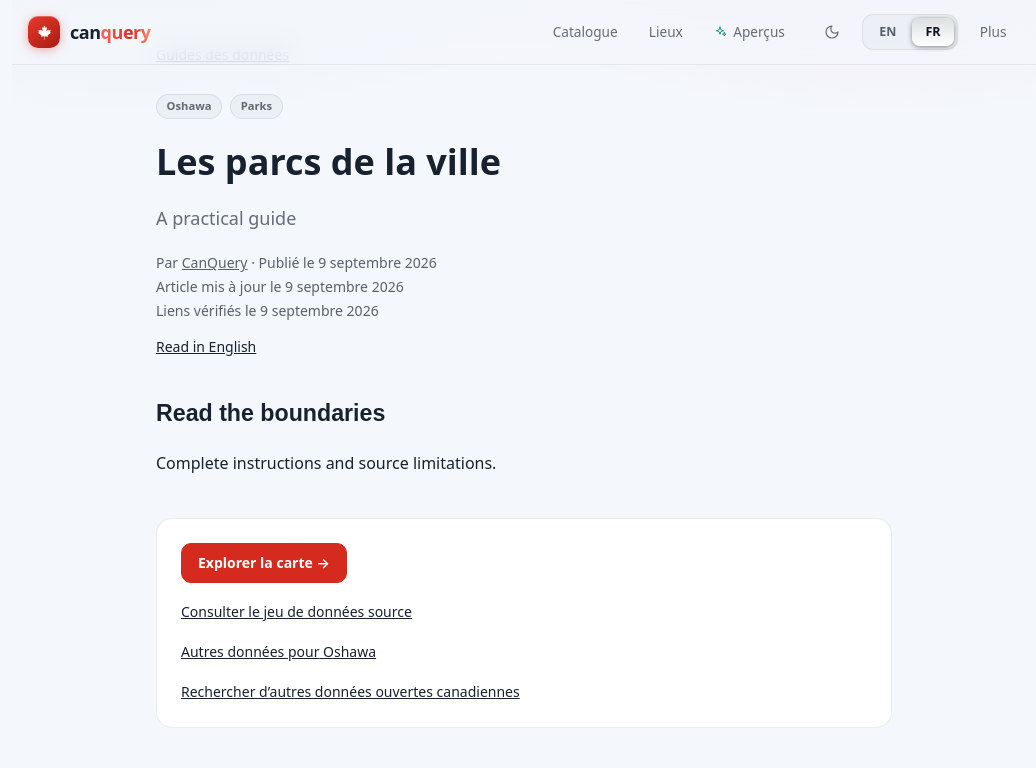
the /fr/blog/parcs guide links back to Canadian open data search after its source and place links
This screenshot has width=1036, height=768.
(page scrolled)
Check: the heading "Les parcs de la ville" is shown, box [156, 137, 501, 186]
What coordinates should you click on to do the following:
click the link "Rechercher d’autres données ouvertes canadiennes"
I would click on:
 (350, 691)
Its box is [181, 682, 520, 701].
(page scrolled)
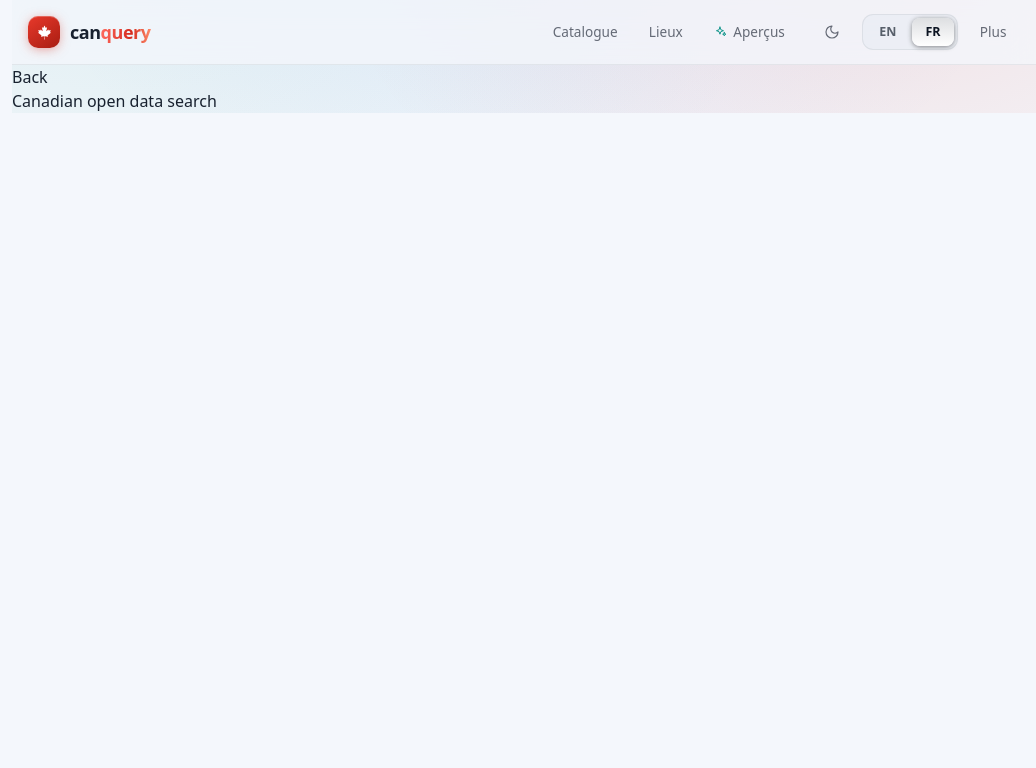
Check: the heading "Canadian open data search" is shown, box [12, 90, 217, 112]
